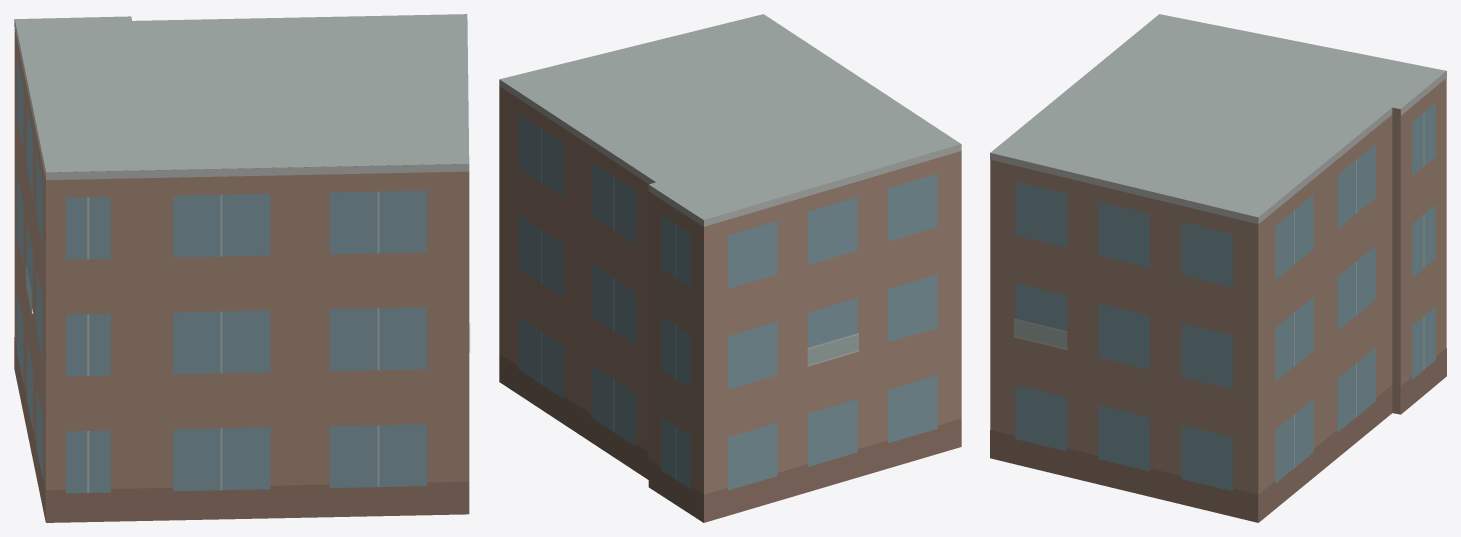
Rendered from survey-upis-32655660.glb.
3 renders of one model, left to right at view 1: azimuth 30°, elevation 25°; view 2: azimuth 150°, elevation 25°; view 3: azimuth 270°, elevation 25°, orthographic. The views are drawn at different scales.
Parts seen in each view (by area): view 1: survey-upis-32655660.tmp; view 2: survey-upis-32655660.tmp; view 3: survey-upis-32655660.tmp.
Boxes of the visible parts, bbox=[...] form: survey-upis-32655660.tmp: bbox=[14, 14, 470, 522]; survey-upis-32655660.tmp: bbox=[499, 14, 961, 522]; survey-upis-32655660.tmp: bbox=[990, 14, 1446, 522].
Size of the model in its own units: 15.6 by 10.92 by 14.8.
